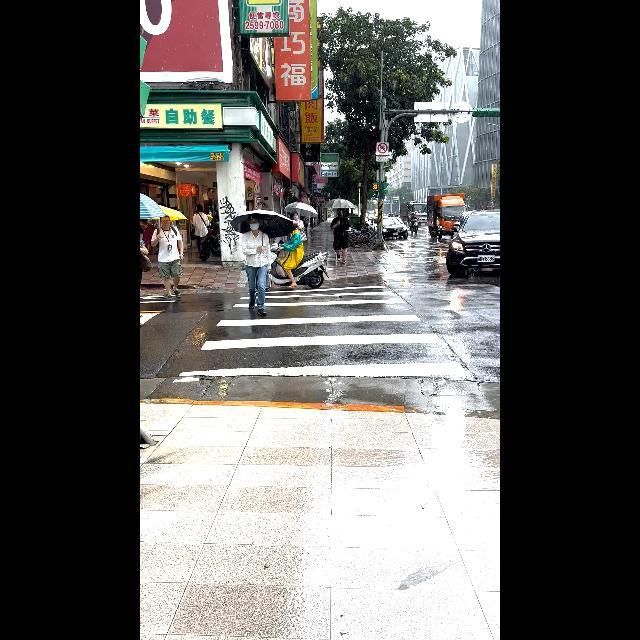sidewalk: (154, 273, 500, 427)
